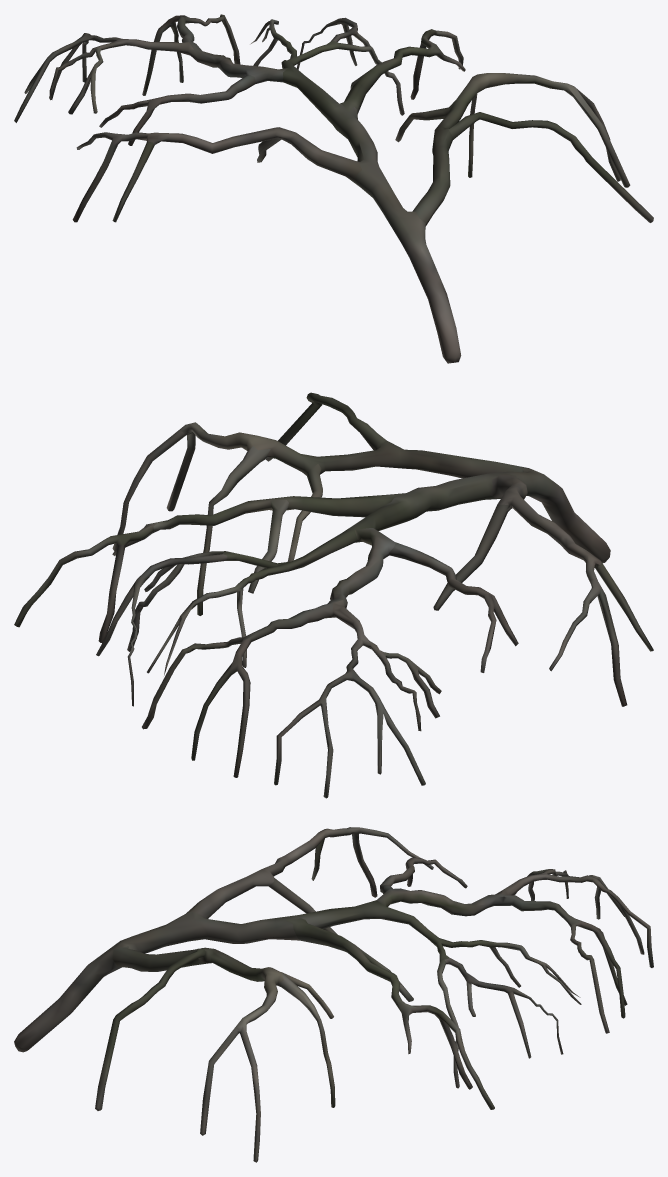
File: GWood_Root.fbx
3 views of the same model, one above another, from view 1: azimuth 30°, elevation 25°; view 2: azimuth 150°, elevation 25°; view 3: azimuth 270°, elevation 25° (orthographic). The views are drawn at different scales.
Parts seen in each view (by area): view 1: GWood_Roots_01; view 2: GWood_Roots_01; view 3: GWood_Roots_01.
Boxes of the visible parts, x1,y1,x2,y2 form: GWood_Roots_01: (14, 14, 653, 363); GWood_Roots_01: (14, 392, 653, 798); GWood_Roots_01: (14, 827, 653, 1162).
Size of what is drawn, in the model's own units: 408 by 128 by 471.
